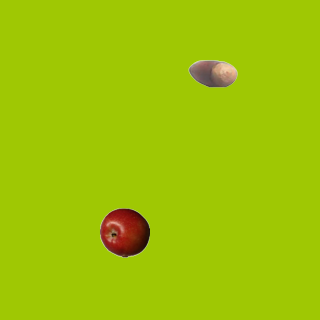Apple Braeburn: (99, 207, 149, 257)
Hazelnut: (187, 48, 237, 98)
